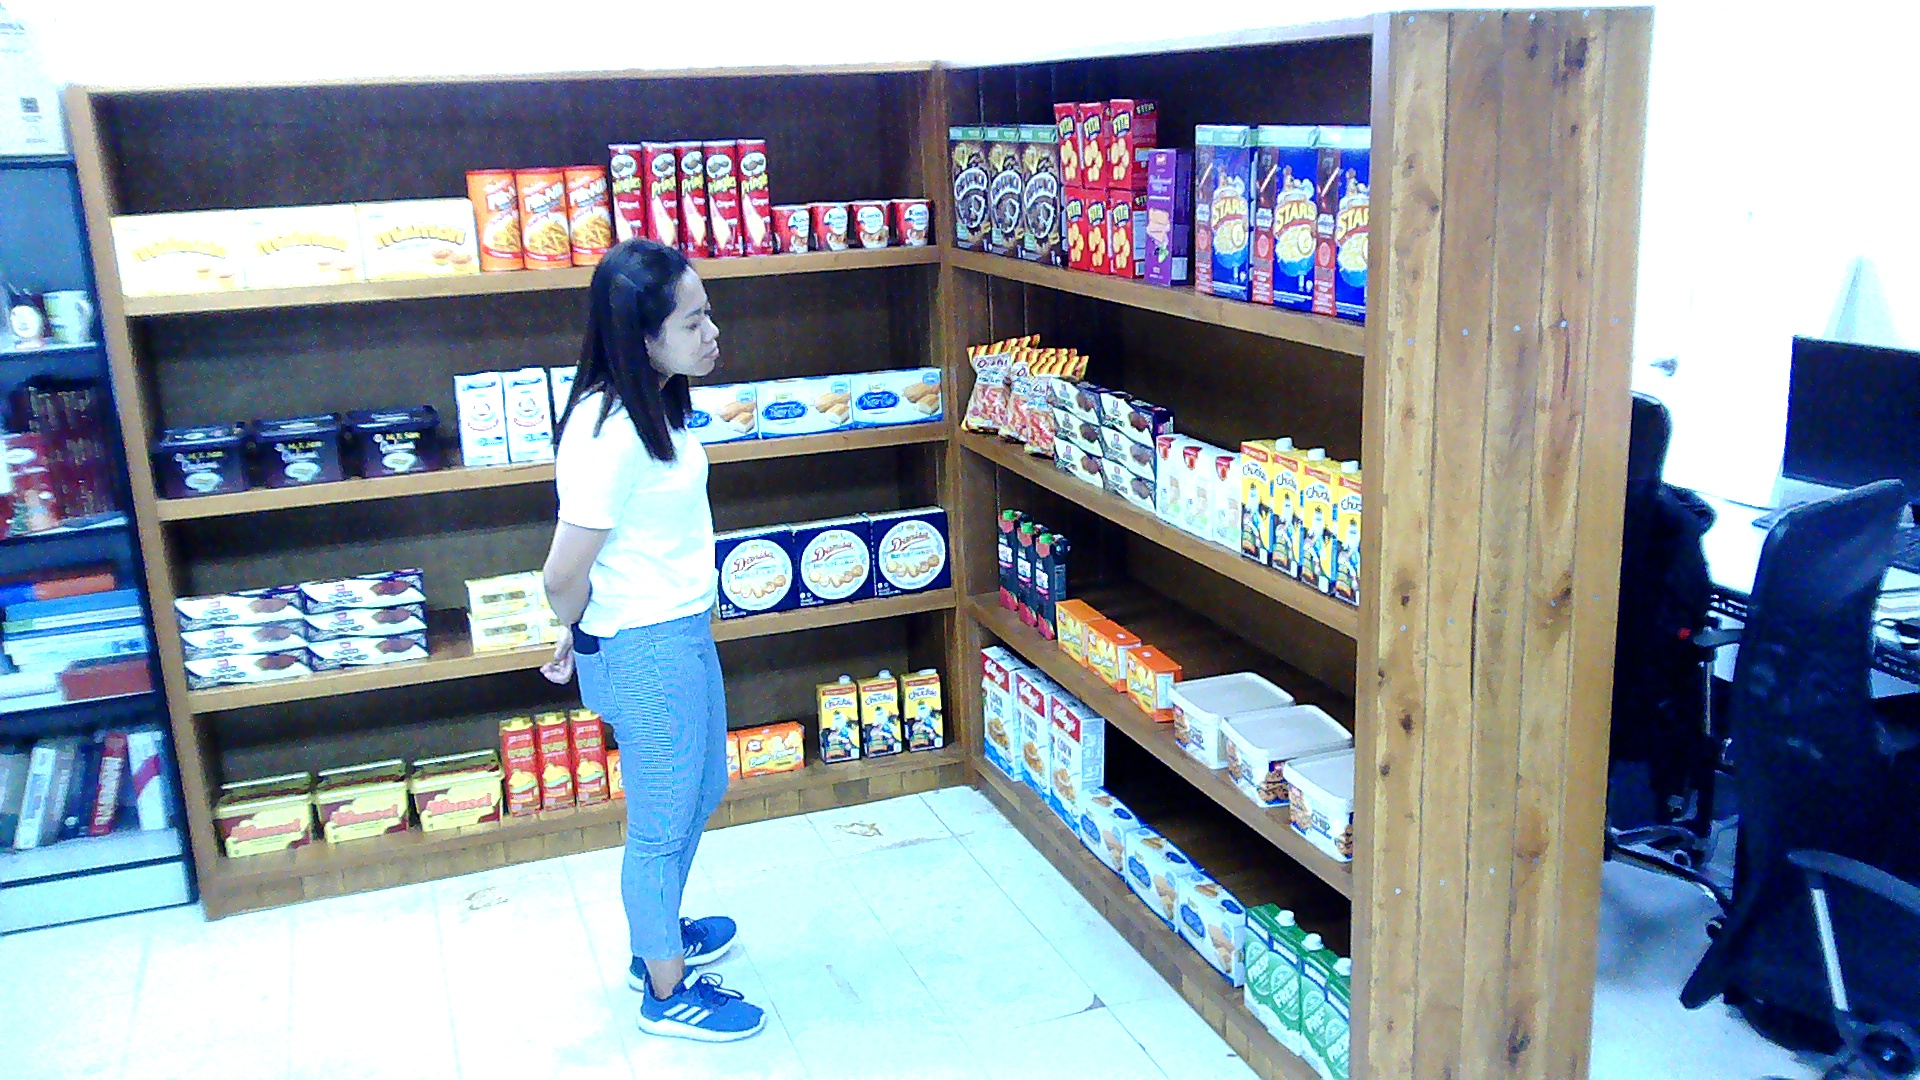Bear brand: (453, 371, 507, 465), (498, 367, 552, 459)
Buttercake: (1125, 824, 1203, 932), (1176, 866, 1245, 985), (1074, 785, 1146, 882), (750, 373, 852, 438), (843, 364, 942, 427), (684, 382, 756, 445)
Butterlicious: (1124, 644, 1181, 720), (1086, 619, 1140, 691), (734, 720, 803, 776), (1056, 598, 1104, 666)
Camomille: (461, 569, 536, 618), (465, 609, 537, 652)
Choco Crunchies: (174, 582, 300, 629), (183, 645, 309, 688), (299, 571, 422, 614), (180, 619, 306, 659), (305, 630, 428, 670), (306, 601, 426, 641), (1097, 389, 1172, 445), (1050, 373, 1110, 422), (1101, 457, 1155, 511), (1101, 425, 1155, 479), (1053, 405, 1101, 457), (1053, 436, 1101, 485)
Chocolate Chips: (1217, 704, 1352, 805), (1166, 670, 1295, 767), (1281, 746, 1353, 859)
Chuckie: (1302, 458, 1359, 593), (1272, 448, 1329, 578), (1242, 437, 1296, 565), (813, 675, 861, 763), (854, 668, 899, 758), (1335, 470, 1362, 605), (900, 666, 942, 752)
Danisa: (711, 521, 798, 618), (861, 504, 951, 596), (785, 513, 872, 607)
Fita: (1110, 99, 1155, 189), (1110, 189, 1146, 277), (1083, 189, 1110, 275), (1079, 101, 1106, 189), (1055, 101, 1082, 184), (1062, 184, 1086, 270)
Fresh Milk: (1266, 927, 1326, 1055), (1242, 902, 1296, 1026), (1299, 949, 1350, 1073), (1320, 974, 1350, 1077)
Grahams: (149, 418, 248, 497), (342, 403, 438, 477), (255, 410, 345, 486)
Hansel: (213, 772, 312, 858), (312, 756, 408, 842), (408, 747, 504, 830)
Head: (579, 233, 729, 386)
Honey Stars: (1251, 123, 1338, 310), (1194, 121, 1254, 299), (1314, 124, 1368, 320)
Kellogg Corn Flakes: (1046, 691, 1103, 837), (1014, 666, 1062, 803), (981, 645, 1029, 780)
Kimchi Noodles: (807, 200, 849, 249), (849, 198, 891, 247), (891, 198, 933, 243), (771, 202, 810, 251)
Koko Krunch: (948, 124, 1002, 252), (984, 123, 1032, 258), (1020, 124, 1065, 266)
Locally Mango: (498, 715, 540, 816), (533, 708, 572, 809), (569, 706, 608, 805)
Mamon: (107, 207, 242, 295), (234, 200, 363, 288), (353, 195, 476, 278)
Oishi Prawn: (960, 333, 1038, 432), (996, 344, 1074, 441), (1023, 355, 1089, 456)
Pik-nik: (512, 166, 569, 269), (464, 168, 521, 269), (564, 164, 612, 265)
Pringles: (701, 139, 740, 256), (735, 137, 771, 254), (674, 141, 707, 258), (642, 142, 678, 250), (609, 144, 648, 243)
Super Fruits: (1035, 531, 1071, 639), (996, 508, 1032, 611), (1016, 522, 1049, 625)
Wafer: (1143, 146, 1194, 286)
iHop: (1181, 440, 1232, 537), (1155, 432, 1197, 526), (1211, 452, 1238, 551)
